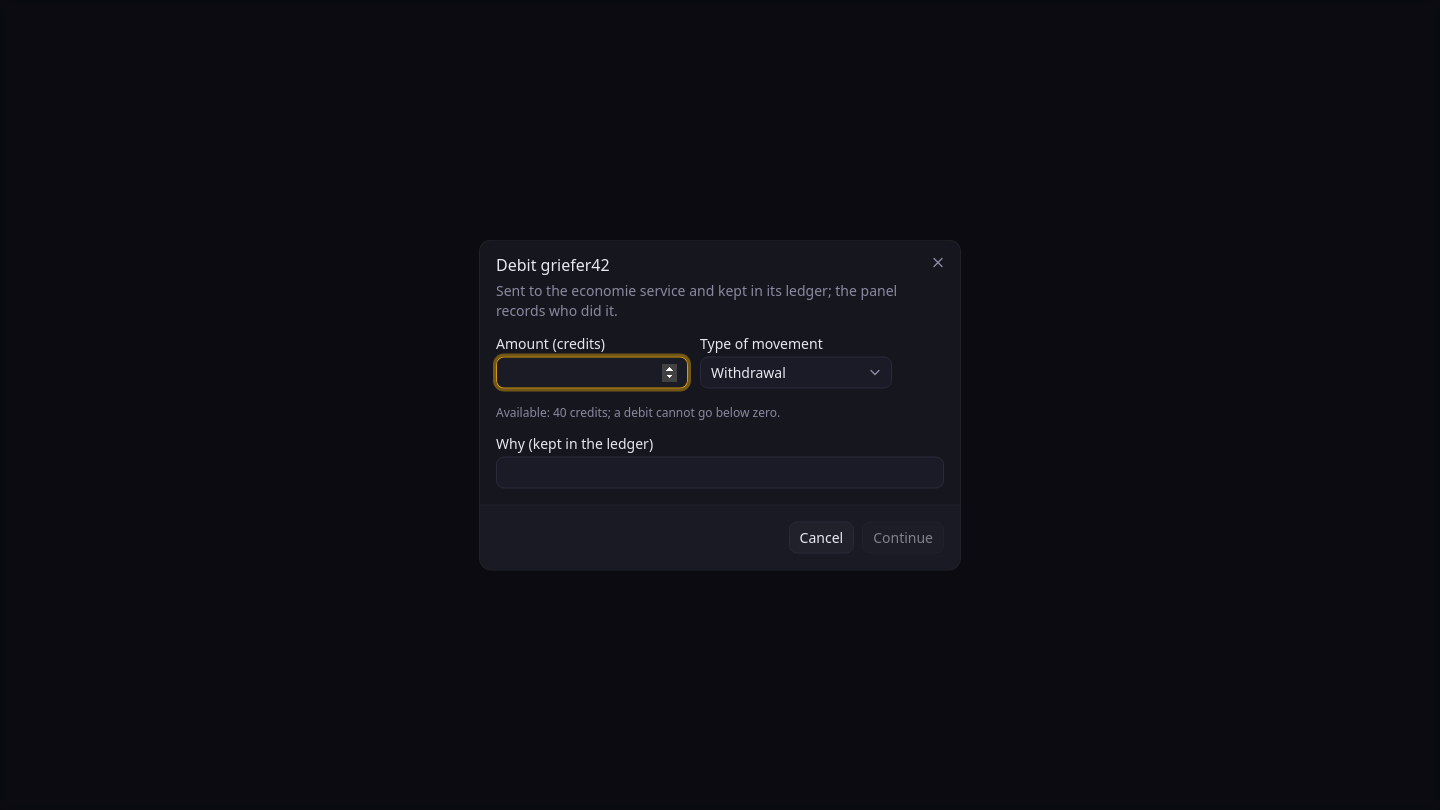
it: MoneyMovementDialog › offers the types of its direction only
The image size is (1440, 810).
Click the dropdown named "Type of movement" at (796, 372), box [700, 356, 892, 388]
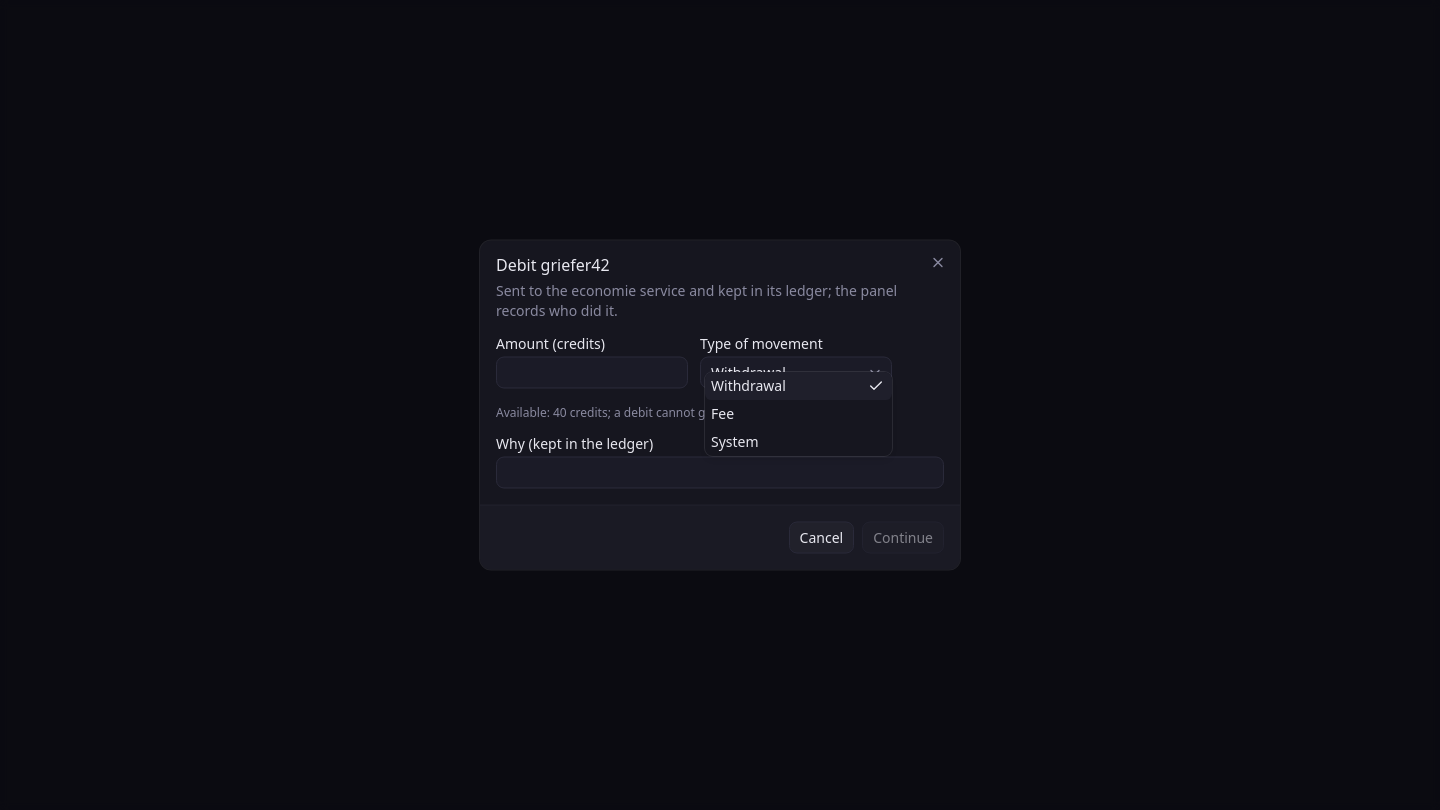
Result: the options read "Withdrawal", "Fee", "System", in this order at [705, 372, 892, 400]; [711, 404, 734, 423]; [711, 432, 759, 451]
